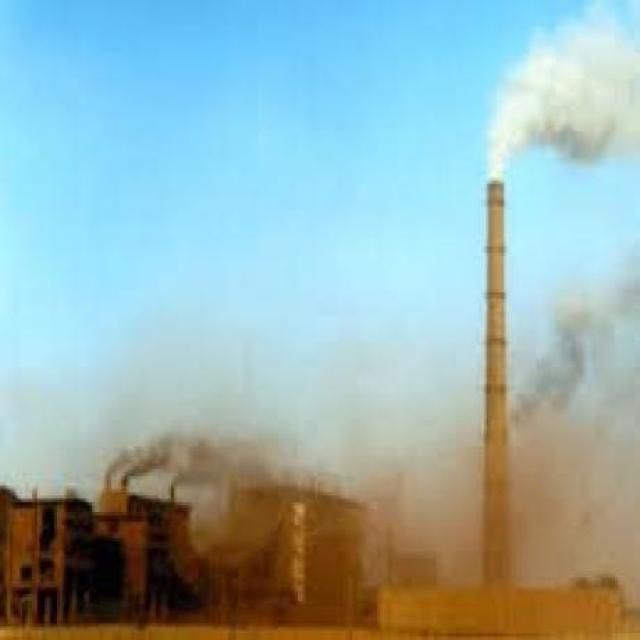Fire: (104, 419, 300, 541)
Smoke: (346, 359, 486, 567), (525, 285, 640, 530), (484, 10, 632, 181)
